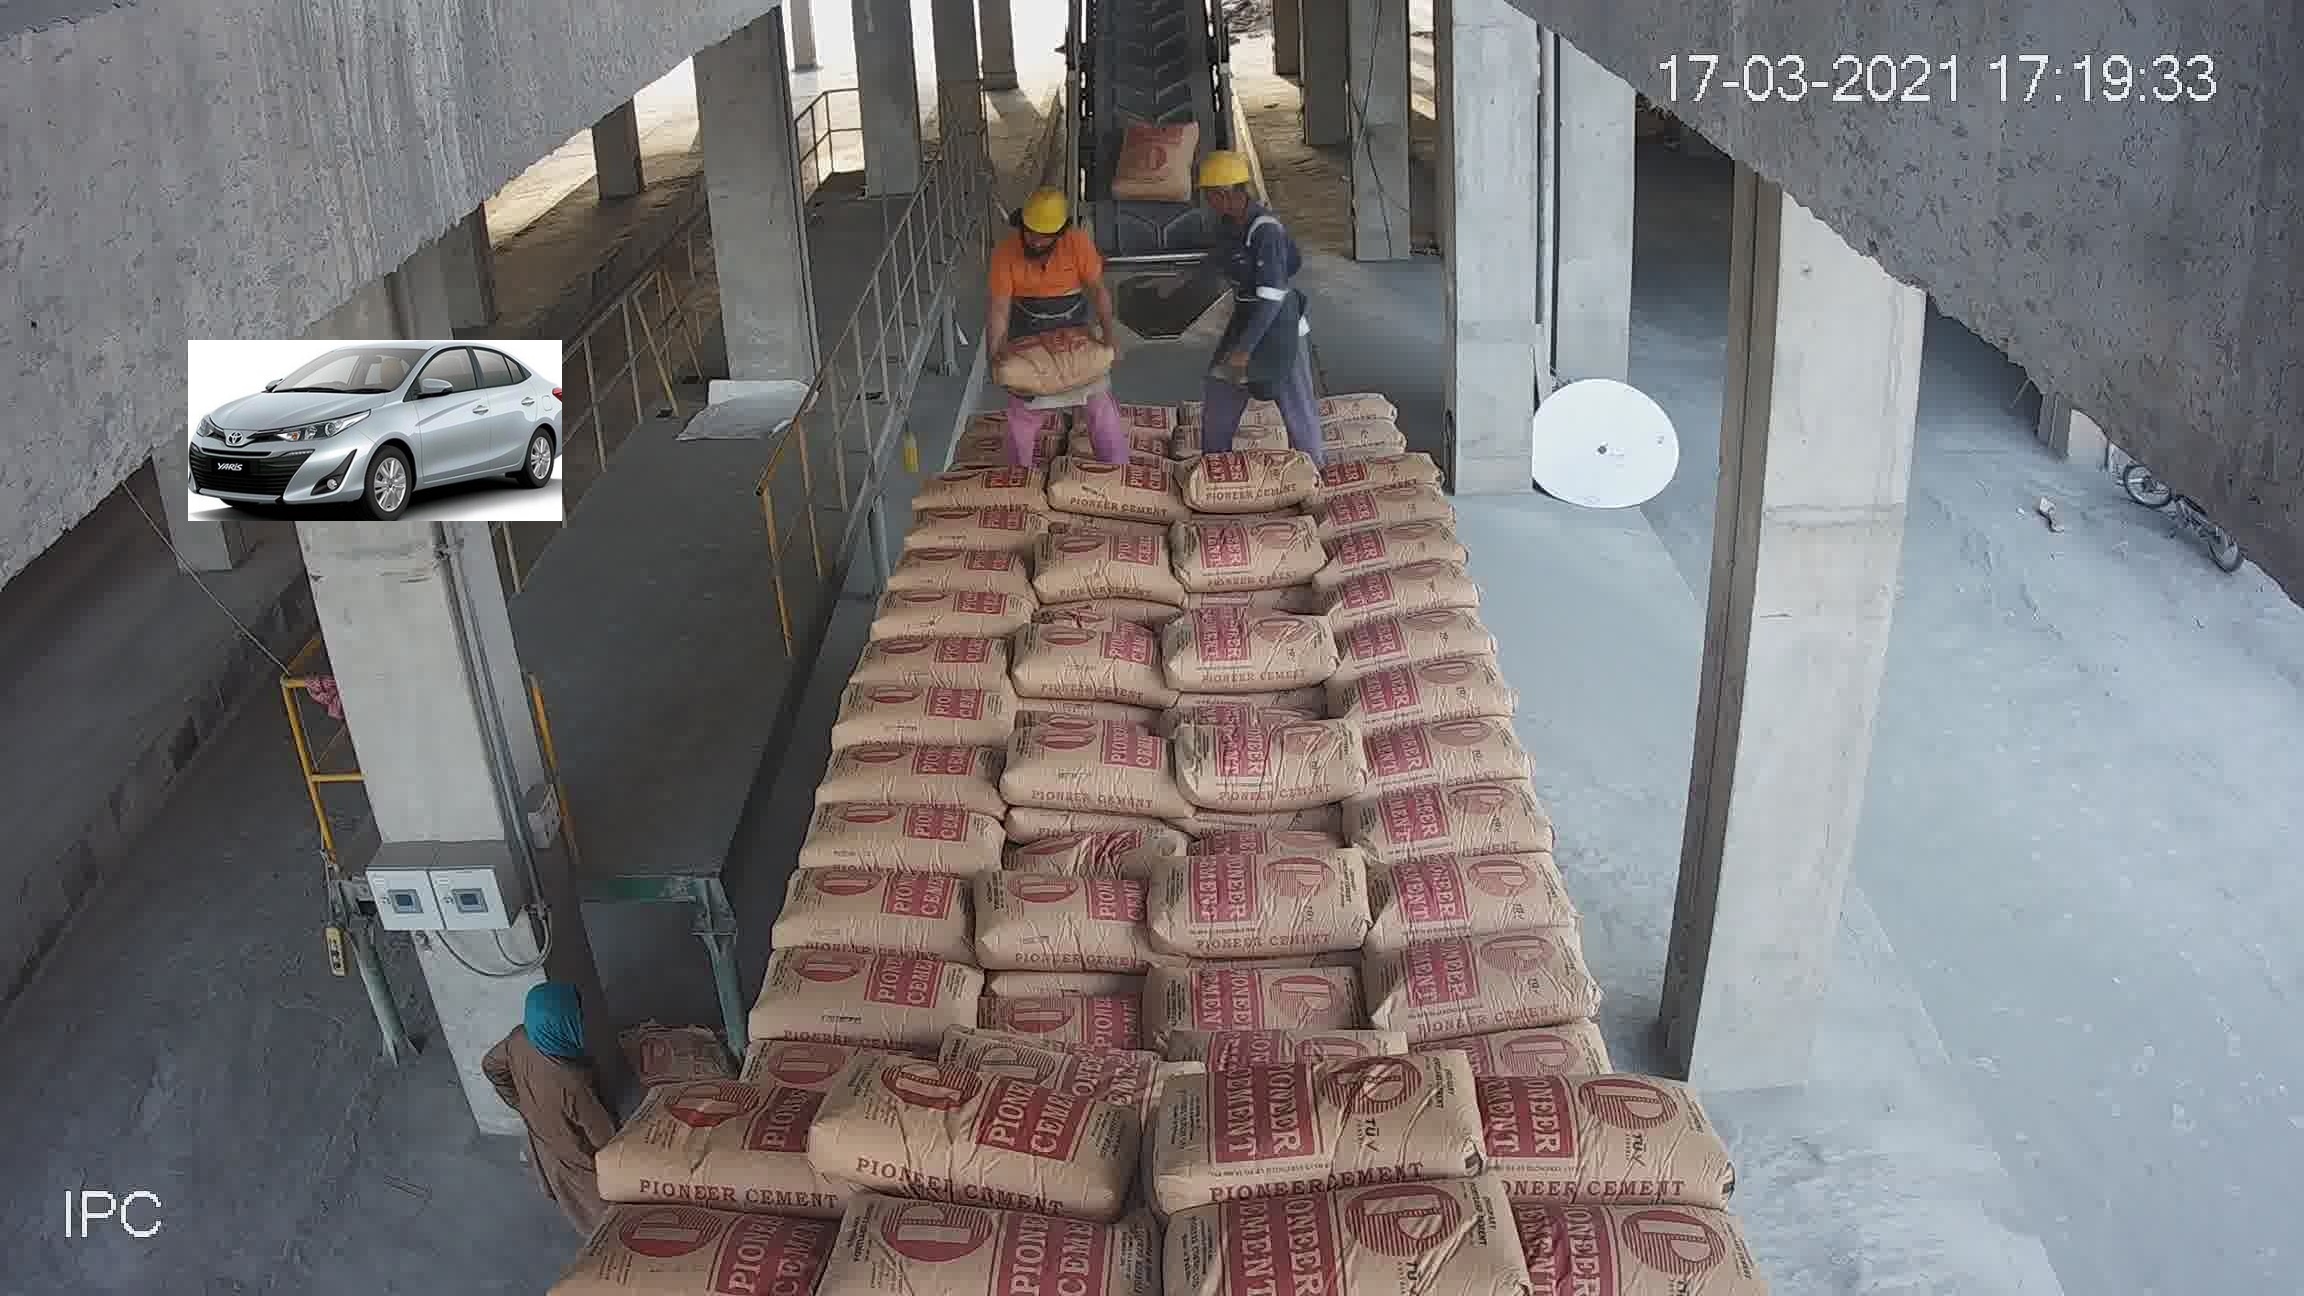bag: (1093, 119, 1187, 203)
bag_h: (1135, 1040, 1473, 1201), (786, 1055, 1138, 1185), (1139, 1169, 1529, 1287), (1449, 1065, 1723, 1204), (820, 1195, 1147, 1293), (1369, 918, 1605, 1041), (593, 1082, 826, 1207), (725, 956, 987, 1049), (1494, 1201, 1768, 1290), (1343, 763, 1559, 872), (1366, 836, 1568, 945), (1163, 843, 1385, 943), (559, 1215, 817, 1290), (1185, 703, 1370, 805), (756, 881, 995, 956), (1359, 717, 1544, 812), (957, 873, 1139, 968), (1320, 654, 1525, 734), (801, 744, 1029, 817), (793, 812, 1014, 885), (1003, 650, 1176, 744), (1003, 729, 1184, 817), (1138, 962, 1372, 1029), (1166, 608, 1340, 696), (1006, 796, 1195, 872), (801, 680, 999, 752), (1180, 1010, 1400, 1071), (1445, 1010, 1620, 1084), (1342, 585, 1495, 669), (1184, 548, 1343, 625), (1324, 552, 1487, 625), (902, 1052, 1214, 1089), (840, 631, 1022, 692), (1011, 571, 1188, 633), (999, 980, 1146, 1041), (1339, 516, 1487, 576), (1016, 612, 1169, 666), (842, 595, 983, 649), (1347, 479, 1475, 536), (1317, 440, 1443, 495), (1060, 427, 1165, 479), (1040, 392, 1158, 432), (1302, 389, 1431, 426), (1294, 339, 1412, 378), (878, 549, 975, 597), (1312, 423, 1449, 456), (1090, 465, 1174, 519), (1301, 372, 1415, 408), (1298, 310, 1396, 351), (900, 502, 968, 544)
belt: (1043, 5, 1256, 347)
